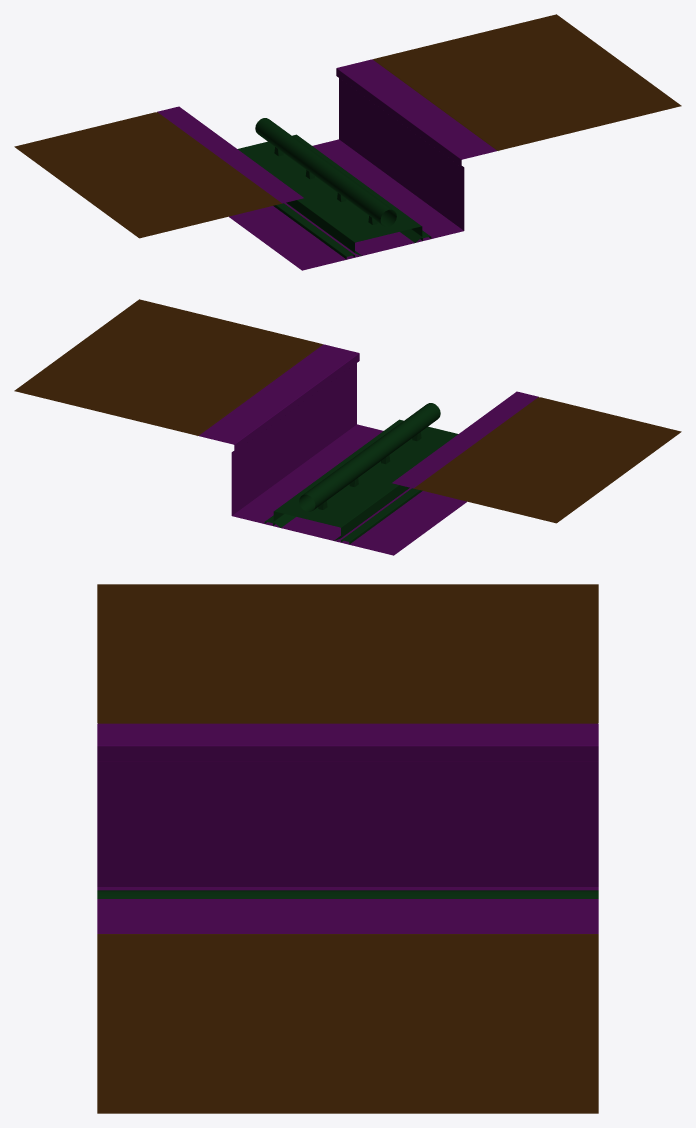
File: TramTrack_Neutral_01.FBX
3 views of the same model, one above another, from view 1: azimuth 30°, elevation 25°; view 2: azimuth 150°, elevation 25°; view 3: azimuth 270°, elevation 25° (orthographic). The views are drawn at different scales.
Visible parts, largest first — view 1: TramTrack_Neutral_01_LOD0; view 2: TramTrack_Neutral_01_LOD0; view 3: TramTrack_Neutral_01_LOD0.
Boxes of the visible parts, left/top/right/bottom form: TramTrack_Neutral_01_LOD0: left=14, top=14, right=681, bottom=270; TramTrack_Neutral_01_LOD0: left=14, top=299, right=681, bottom=555; TramTrack_Neutral_01_LOD0: left=97, top=584, right=598, bottom=1113.
Size of what is drawn, in the model's own units: 2000 by 253 by 800.
